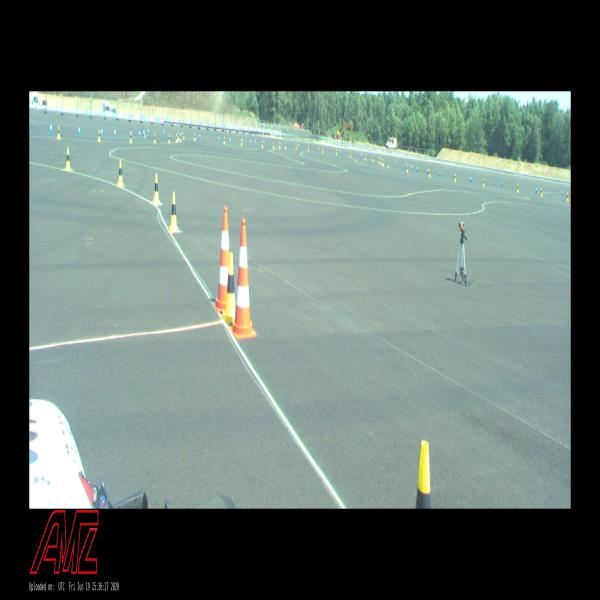blue_cone: (50, 122, 53, 134), (77, 125, 80, 136), (138, 128, 141, 138), (535, 185, 538, 193), (101, 126, 103, 137), (143, 128, 145, 137), (114, 128, 116, 137), (501, 179, 503, 188), (147, 127, 149, 135), (439, 170, 441, 178), (470, 174, 472, 182), (416, 164, 418, 172), (163, 128, 165, 136), (218, 135, 220, 142), (229, 136, 231, 143), (409, 162, 411, 169), (394, 158, 396, 165), (318, 145, 320, 152), (360, 152, 362, 158), (339, 149, 341, 155), (412, 163, 413, 172), (405, 160, 406, 168), (250, 138, 251, 146), (199, 132, 200, 139), (427, 167, 428, 174), (242, 137, 243, 143), (255, 138, 256, 144), (298, 143, 299, 149)
large_orange_cone: (232, 219, 256, 339), (213, 206, 230, 311)
yellow_cone: (415, 441, 431, 509), (222, 253, 235, 324), (168, 191, 179, 232), (153, 173, 160, 205), (117, 158, 124, 186), (65, 147, 71, 170), (57, 126, 61, 139), (129, 131, 133, 144), (97, 130, 101, 141), (153, 133, 156, 143), (566, 192, 569, 202), (516, 183, 519, 193), (175, 134, 178, 143), (540, 187, 543, 196), (193, 133, 196, 140), (168, 134, 170, 143), (454, 173, 456, 182), (406, 164, 408, 173), (482, 178, 484, 186), (387, 160, 389, 168), (179, 134, 181, 142), (382, 158, 384, 166), (223, 137, 225, 144), (262, 141, 264, 148), (295, 143, 297, 150), (364, 154, 366, 160), (178, 130, 179, 141), (350, 150, 351, 158), (273, 142, 274, 150), (183, 131, 184, 139), (429, 169, 430, 177), (381, 157, 382, 165), (241, 138, 242, 146), (372, 155, 373, 162), (285, 142, 286, 149), (279, 142, 280, 149), (336, 149, 337, 155), (308, 145, 309, 151), (322, 146, 323, 152)
